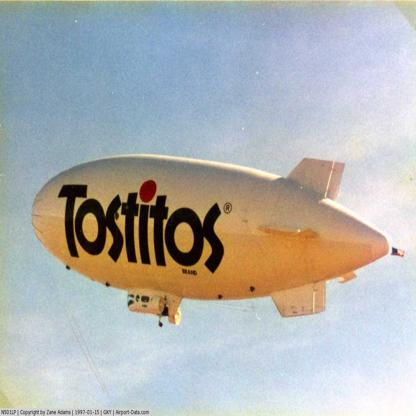Airship: (24, 143, 399, 332)
